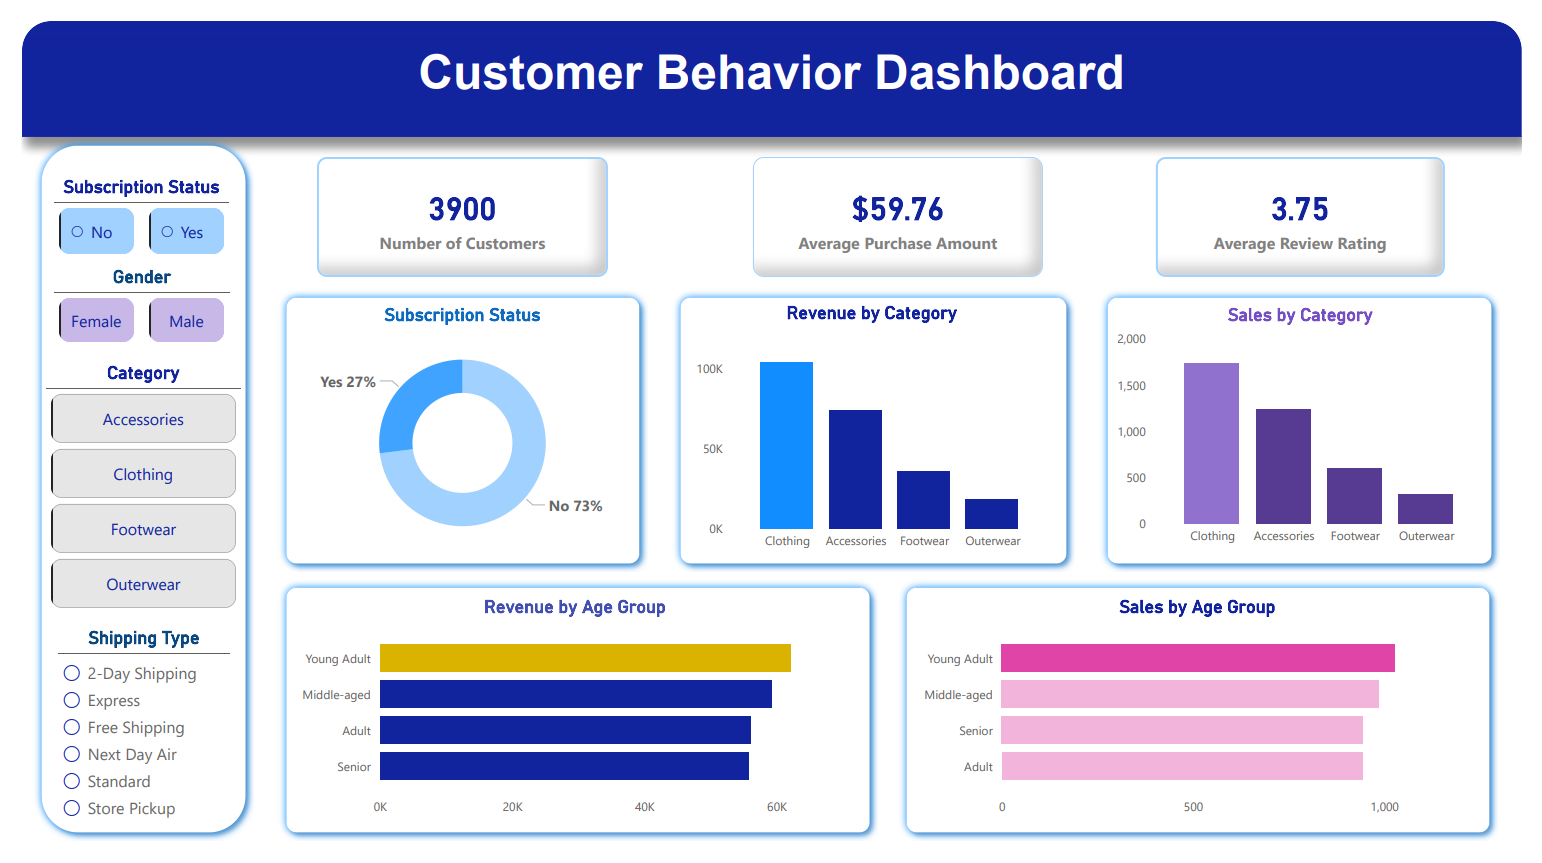

The page's visual inventory and layout, read from the dashboard file:
{"tool":"powerbi","page":{"name":"Page 1","canvas":[1500,820],"ordinal":0},"visuals":[{"type":"card","fields":{"Values":["public customer.Number of Customers"]},"box":[295,135.6,290.9,120.1],"z":0},{"type":"card","fields":{"Values":["public customer.Average Purchase Amount"]},"box":[730.8,135.6,289.9,120.1],"z":1000},{"type":"card","fields":{"Values":["public customer.Average Review Rating"]},"box":[1133.5,135.6,289.9,120.1],"z":2000},{"type":"shape","box":[0,0,1500,116.2],"z":3000},{"type":"textbox","box":[0,18.6,1500,97.3],"z":4000},{"type":"shape","box":[255.7,268.1,370.6,282.6],"z":5000},{"type":"donutChart","title":"Subscription Status","fields":{"Category":["public customer.subscription_status"],"Y":["public customer.Number of Customers"]},"box":[270.2,282.6,340.6,257.8],"z":6000},{"type":"shape","box":[650.1,268.1,402.7,282.6],"z":7000},{"type":"shape","box":[1076.6,268.1,401.7,282.6],"z":8000},{"type":"clusteredColumnChart","title":"Revenue by Category","fields":{"Y":["Sum(public customer.purchase_amount)"],"Category":["public customer.category"]},"box":[668.7,280.5,362.3,257.8],"z":9000},{"type":"clusteredColumnChart","title":"Sales by Category","fields":{"Y":["Count(public customer.customer_id)"],"Category":["public customer.category"]},"box":[1090.1,282.6,376.8,250.5],"z":10000},{"type":"shape","box":[11.4,115.9,220.5,703.9],"z":11000},{"type":"advancedSlicerVisual","title":"Subscription Status","fields":{"Values":["public customer.subscription_status"]},"box":[32.3,154.6,174.9,81.9],"z":12000},{"type":"advancedSlicerVisual","title":"Gender","fields":{"Values":["public customer.gender"]},"box":[32.3,244.6,175.9,80],"z":13000},{"type":"advancedSlicerVisual","title":"Category","fields":{"Values":["public customer.category"]},"box":[24,341,195,253],"z":14000},{"type":"listSlicer","title":"Shipping Type","fields":{"Values":["public customer.shipping_type"]},"box":[36,606,172,199],"z":15000},{"type":"shape","box":[255.7,558,600,261.9],"z":16000},{"type":"clusteredBarChart","title":"Revenue by Age Group","fields":{"Y":["Sum(public customer.purchase_amount)"],"Category":["public customer.age_group"]},"box":[270.2,574.5,566.3,229.8],"z":17000},{"type":"shape","box":[875.8,558,600.4,261.9],"z":18000},{"type":"clusteredBarChart","title":"Sales by Age Group","fields":{"Y":["CountNonNull(public customer.customer_id)"],"Category":["public customer.age_group"]},"box":[892.3,574.5,566.3,229.8],"z":19000}]}

Visuals, with their boxes in screenshot pixels (x1, y1, x2, y2), scaled from the page's 1500x820 canvas onto the 1542x863 screenshot:
card - public customer.Number of Customers: 303/143/602/269
card - public customer.Average Purchase Amount: 751/143/1049/269
card - public customer.Average Review Rating: 1165/143/1463/269
shape: 0/0/1541/122
textbox: 0/20/1541/122
shape: 263/282/644/580
"Subscription Status" donutChart: 278/297/628/569
shape: 668/282/1082/580
shape: 1107/282/1520/580
"Revenue by Category" clusteredColumnChart: 687/295/1060/567
"Sales by Category" clusteredColumnChart: 1121/297/1508/561
shape: 12/122/238/862
"Subscription Status" advancedSlicerVisual: 33/163/213/249
"Gender" advancedSlicerVisual: 33/257/214/342
"Category" advancedSlicerVisual: 25/359/225/625
"Shipping Type" listSlicer: 37/638/214/847
shape: 263/587/880/862
"Revenue by Age Group" clusteredBarChart: 278/605/860/846
shape: 900/587/1518/862
"Sales by Age Group" clusteredBarChart: 917/605/1499/846
